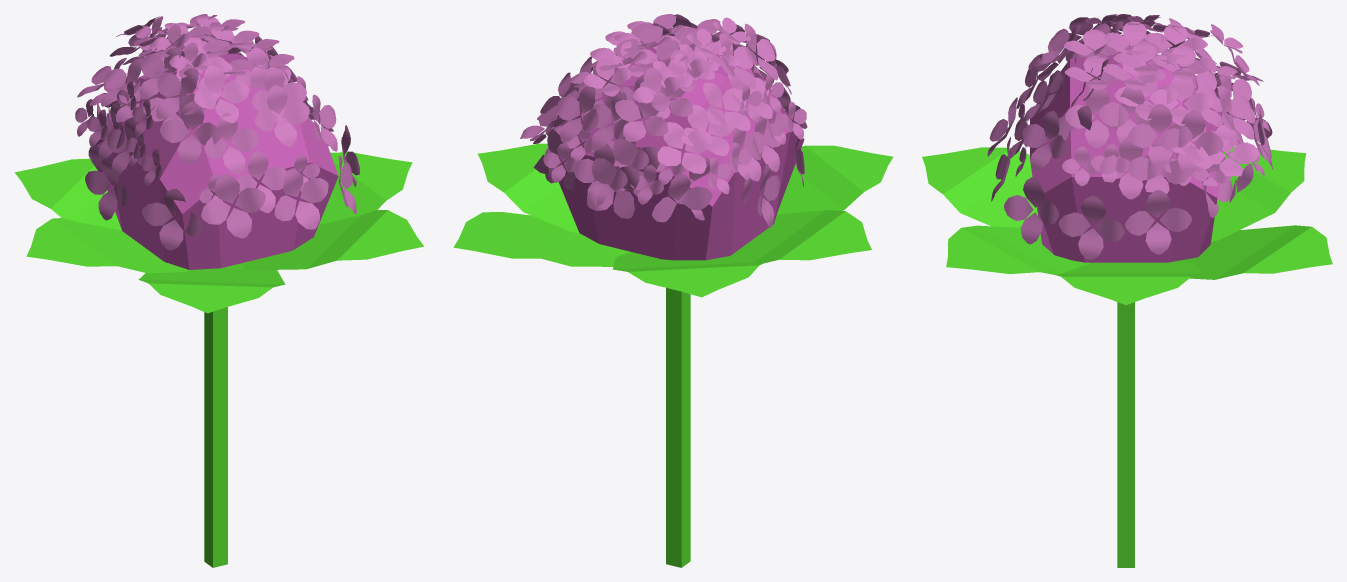
Rendered from flower1Grown.fbx.
3 views of the same model, side by side, from view 1: azimuth 30°, elevation 25°; view 2: azimuth 150°, elevation 25°; view 3: azimuth 270°, elevation 25° (orthographic). The views are drawn at different scales.
Visible parts, largest first — view 1: petal.002, Cube, petal.003, leaf.001, leaf, stalk, leaf1; view 2: petal.003, petal.002, Cube, leaf1, leaf, stalk, leaf.001; view 3: petal.002, petal.003, Cube, leaf1, leaf.001, stalk, leaf.
Part boxes in pixels (left/top/right/bottom): petal.002: left=85, top=22, right=359, bottom=250; Cube: left=96, top=53, right=338, bottom=269; petal.003: left=75, top=14, right=319, bottom=172; leaf.001: left=14, top=158, right=424, bottom=270; leaf: left=26, top=152, right=412, bottom=273; stalk: left=204, top=307, right=227, bottom=567; leaf1: left=138, top=264, right=285, bottom=313; petal.003: left=520, top=22, right=788, bottom=222; petal.002: left=537, top=14, right=807, bottom=227; Cube: left=557, top=47, right=804, bottom=260; leaf1: left=453, top=145, right=893, bottom=266; leaf: left=478, top=143, right=871, bottom=263; stalk: left=666, top=288, right=690, bottom=567; leaf.001: left=612, top=252, right=763, bottom=297; petal.002: left=987, top=14, right=1243, bottom=259; petal.003: left=1056, top=14, right=1272, bottom=202; Cube: left=1030, top=52, right=1222, bottom=262; leaf1: left=922, top=147, right=1332, bottom=279; leaf.001: left=946, top=146, right=1306, bottom=274; stalk: left=1117, top=302, right=1134, bottom=567; leaf: left=1055, top=260, right=1202, bottom=305.
Bounding box in the file's own units: 391 × 516 × 357.
